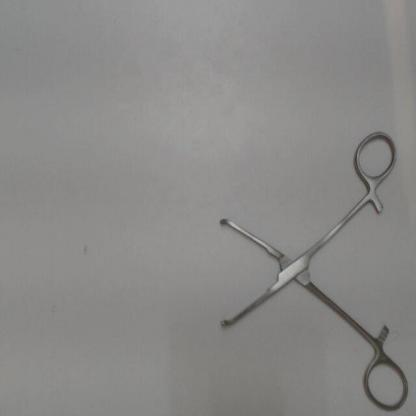Allis Tissue Forceps: (215, 128, 412, 415)
